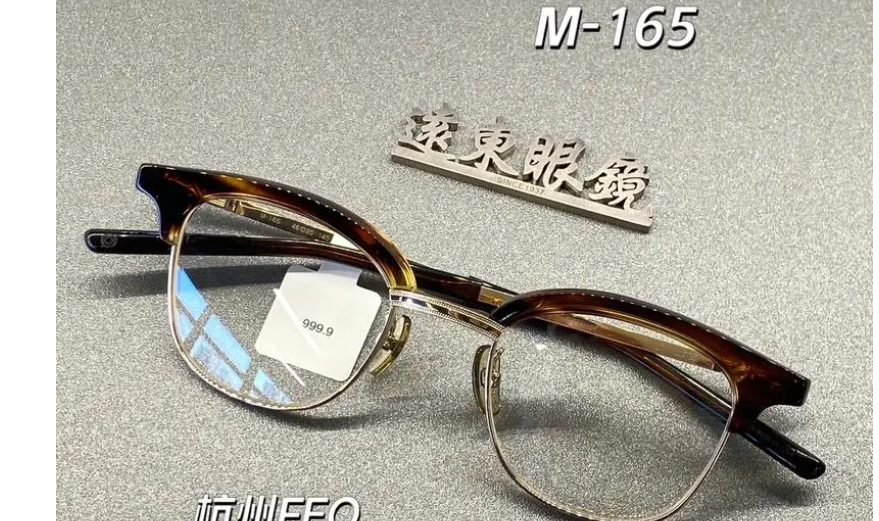glass: (87, 146, 827, 518)
